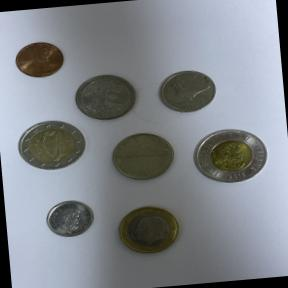1 Euro-B: (106, 198, 190, 262)
2 Euro-B: (10, 115, 90, 177)
Canada-10cent-B: (39, 193, 101, 243)
Canada-2Dollar-B: (185, 117, 278, 192)
Croatia-2Kune-B: (102, 126, 184, 190)
US-1cent-B: (9, 32, 77, 86)
US-25cent-B: (72, 69, 146, 126)
